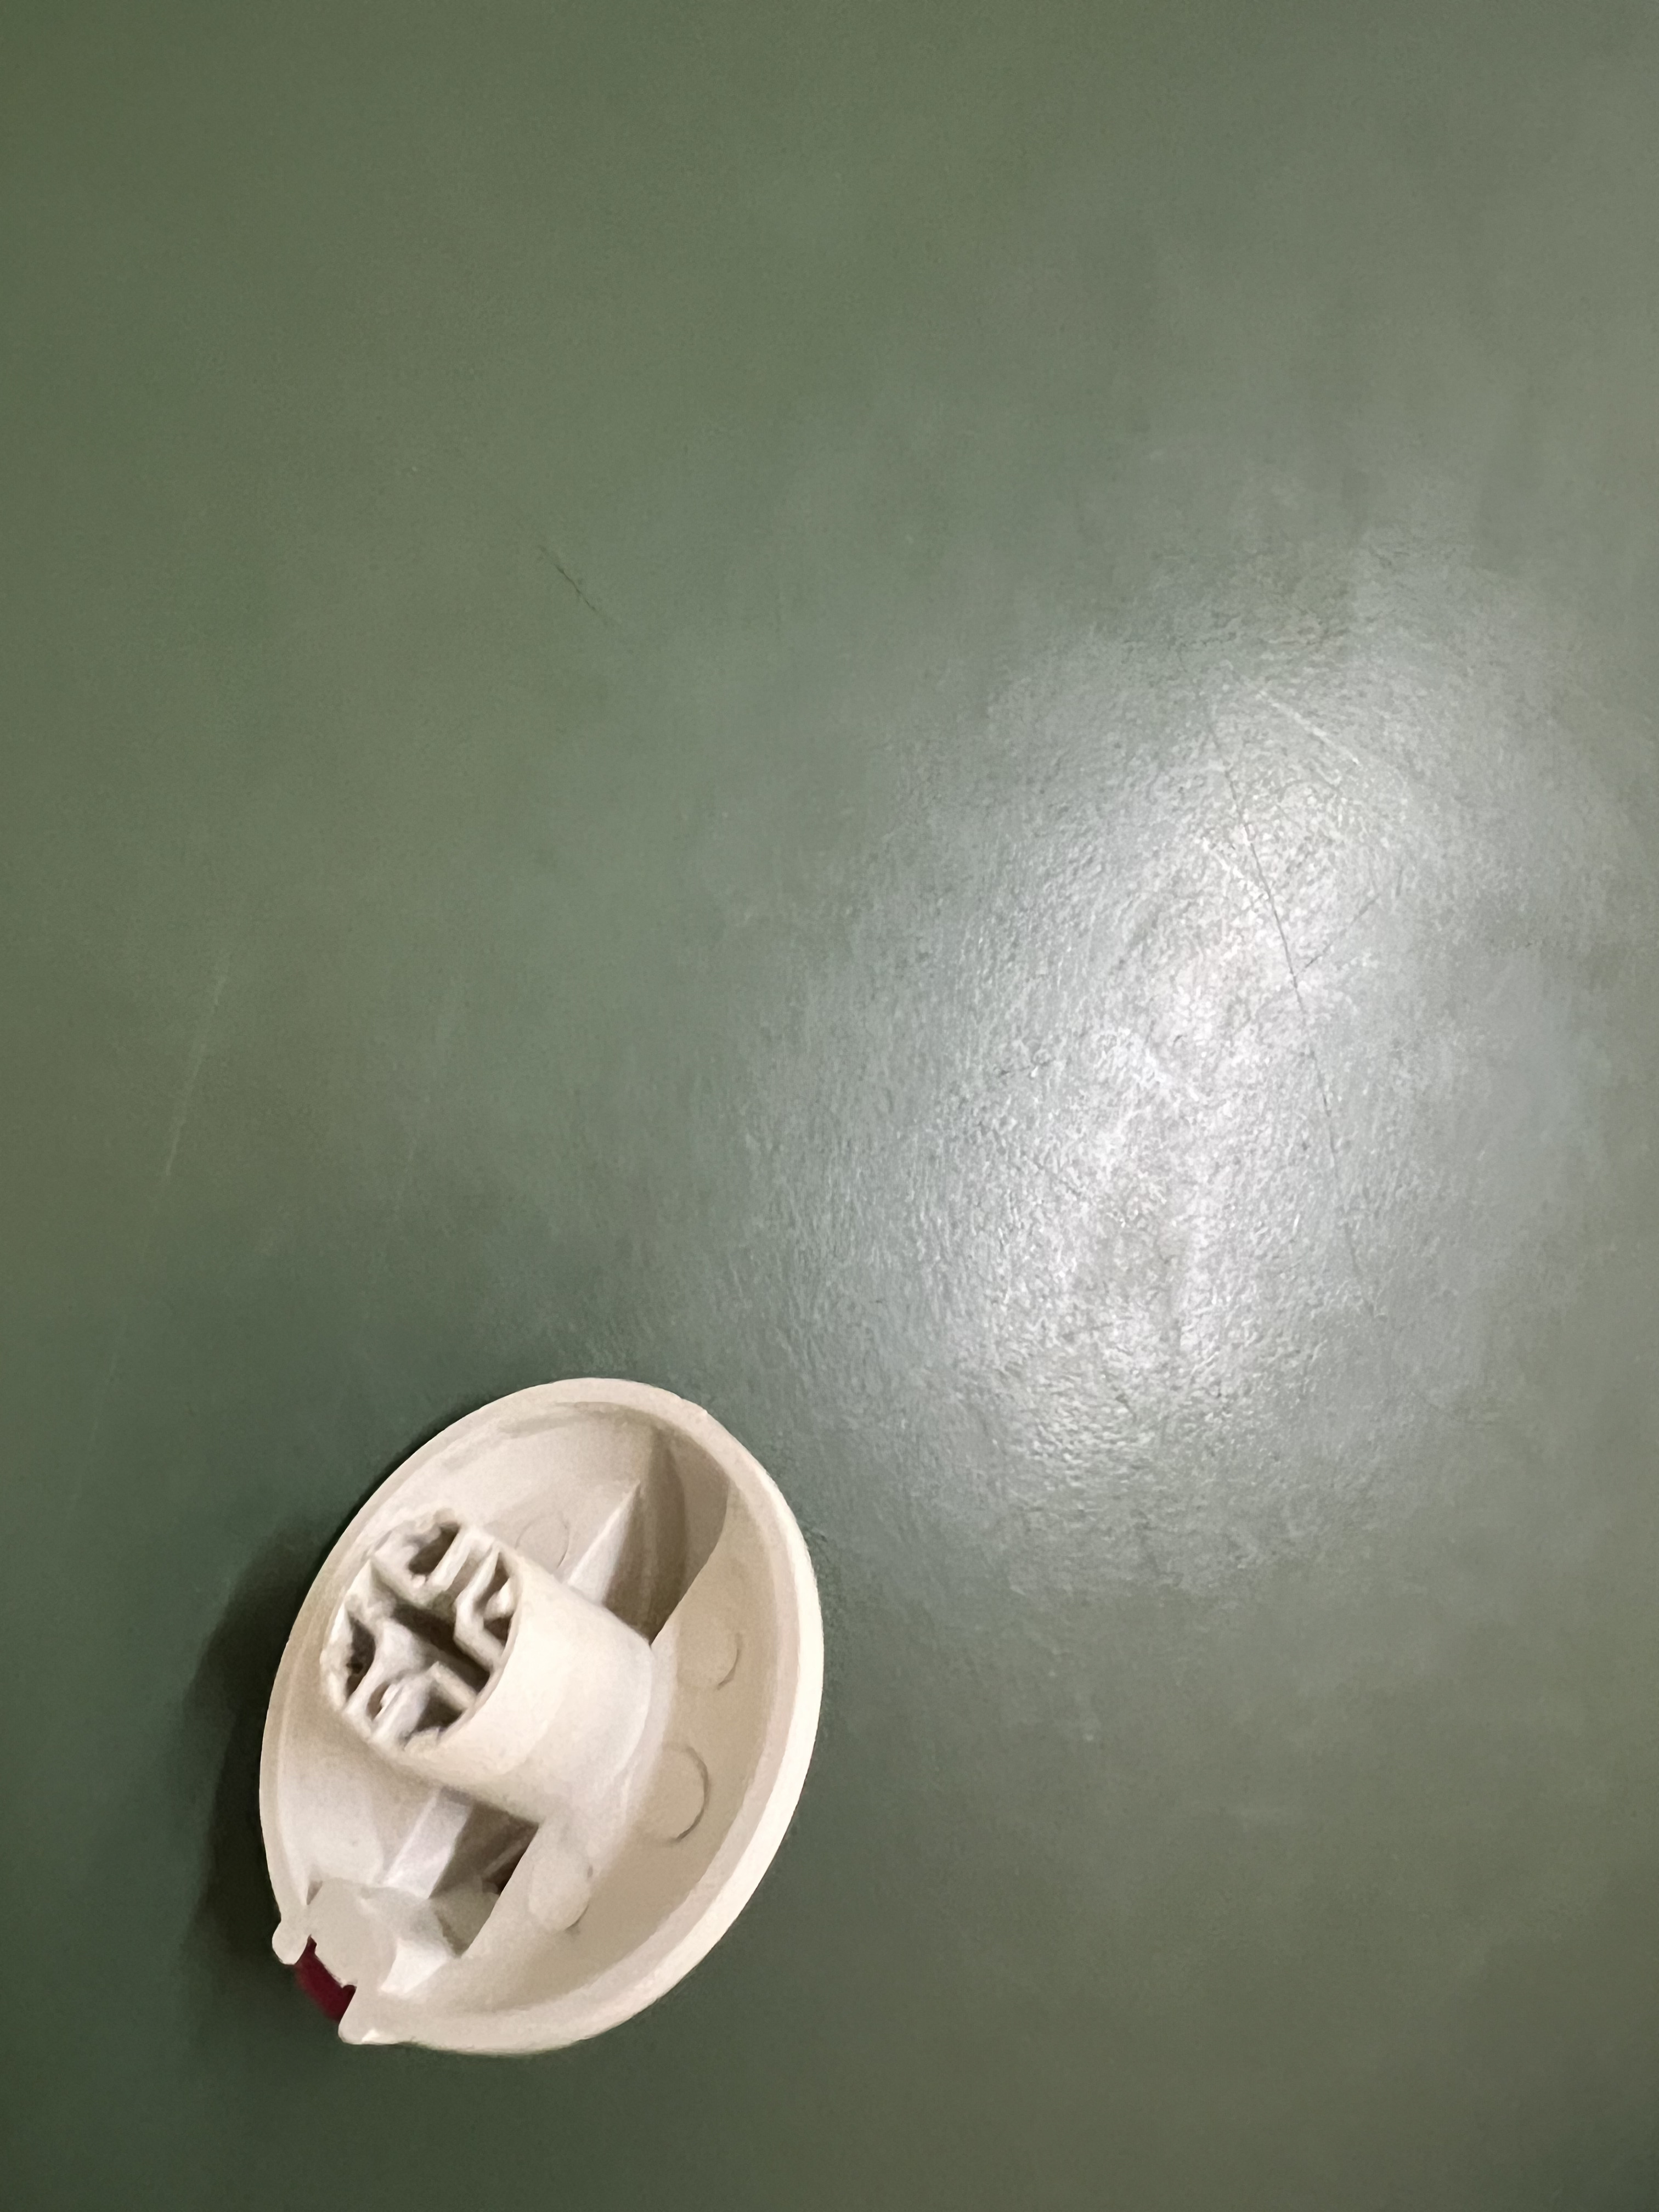regulator: (258, 1371, 824, 2064)
